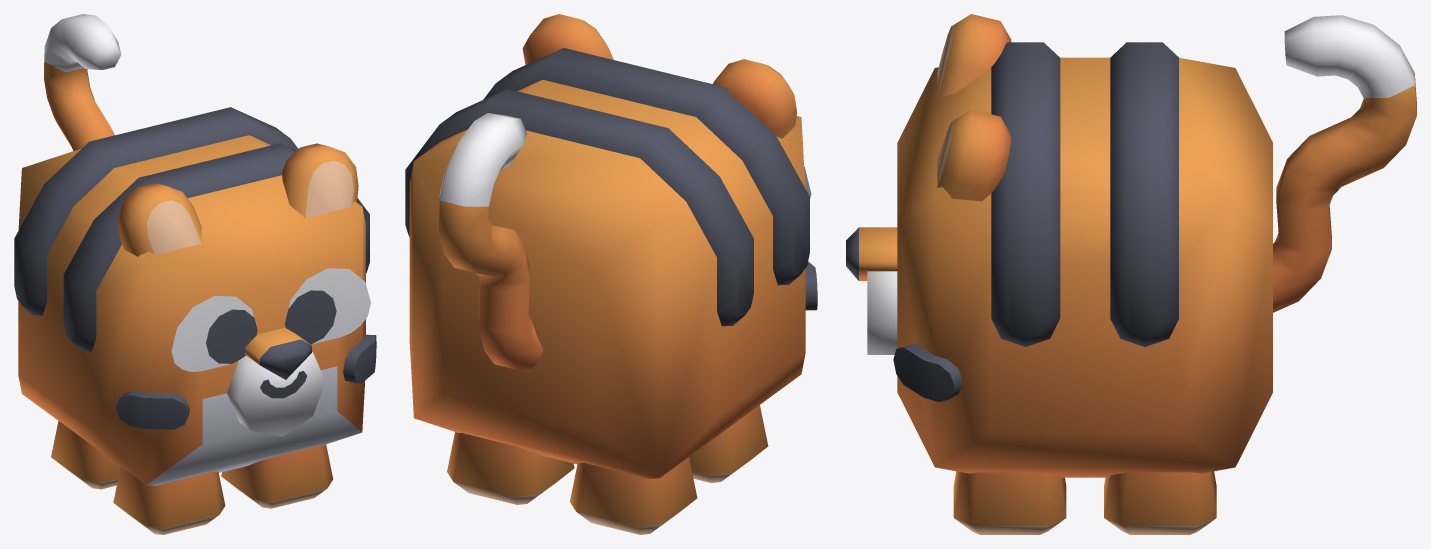
The model's file is animal-tiger.glb.
3 renders of one model, left to right at view 1: azimuth 30°, elevation 25°; view 2: azimuth 150°, elevation 25°; view 3: azimuth 270°, elevation 25°, orthographic. The views are drawn at different scales.
Parts seen in each view (by area): view 1: body, tail, leg-front-right, leg-front-left, leg-back-right; view 2: body, tail, leg-back-right, leg-back-left, leg-front-right; view 3: body, tail, leg-front-left, leg-back-left.
Part boxes in pixels (x1,y1,x2,y2): body: [14, 107, 376, 485]; tail: [44, 14, 121, 150]; leg-front-right: [113, 466, 225, 534]; leg-front-left: [221, 444, 333, 508]; leg-back-right: [51, 421, 120, 489]; body: [405, 14, 817, 478]; tail: [439, 113, 543, 372]; leg-back-right: [570, 457, 697, 534]; leg-back-left: [447, 432, 574, 504]; leg-front-right: [689, 405, 768, 482]; body: [846, 14, 1272, 477]; tail: [1273, 15, 1416, 312]; leg-front-left: [953, 471, 1066, 534]; leg-back-left: [1104, 471, 1216, 534].
Bounding box in the file's own units: 1.35 × 1.71 × 1.9.
1 material, 1 textured.
